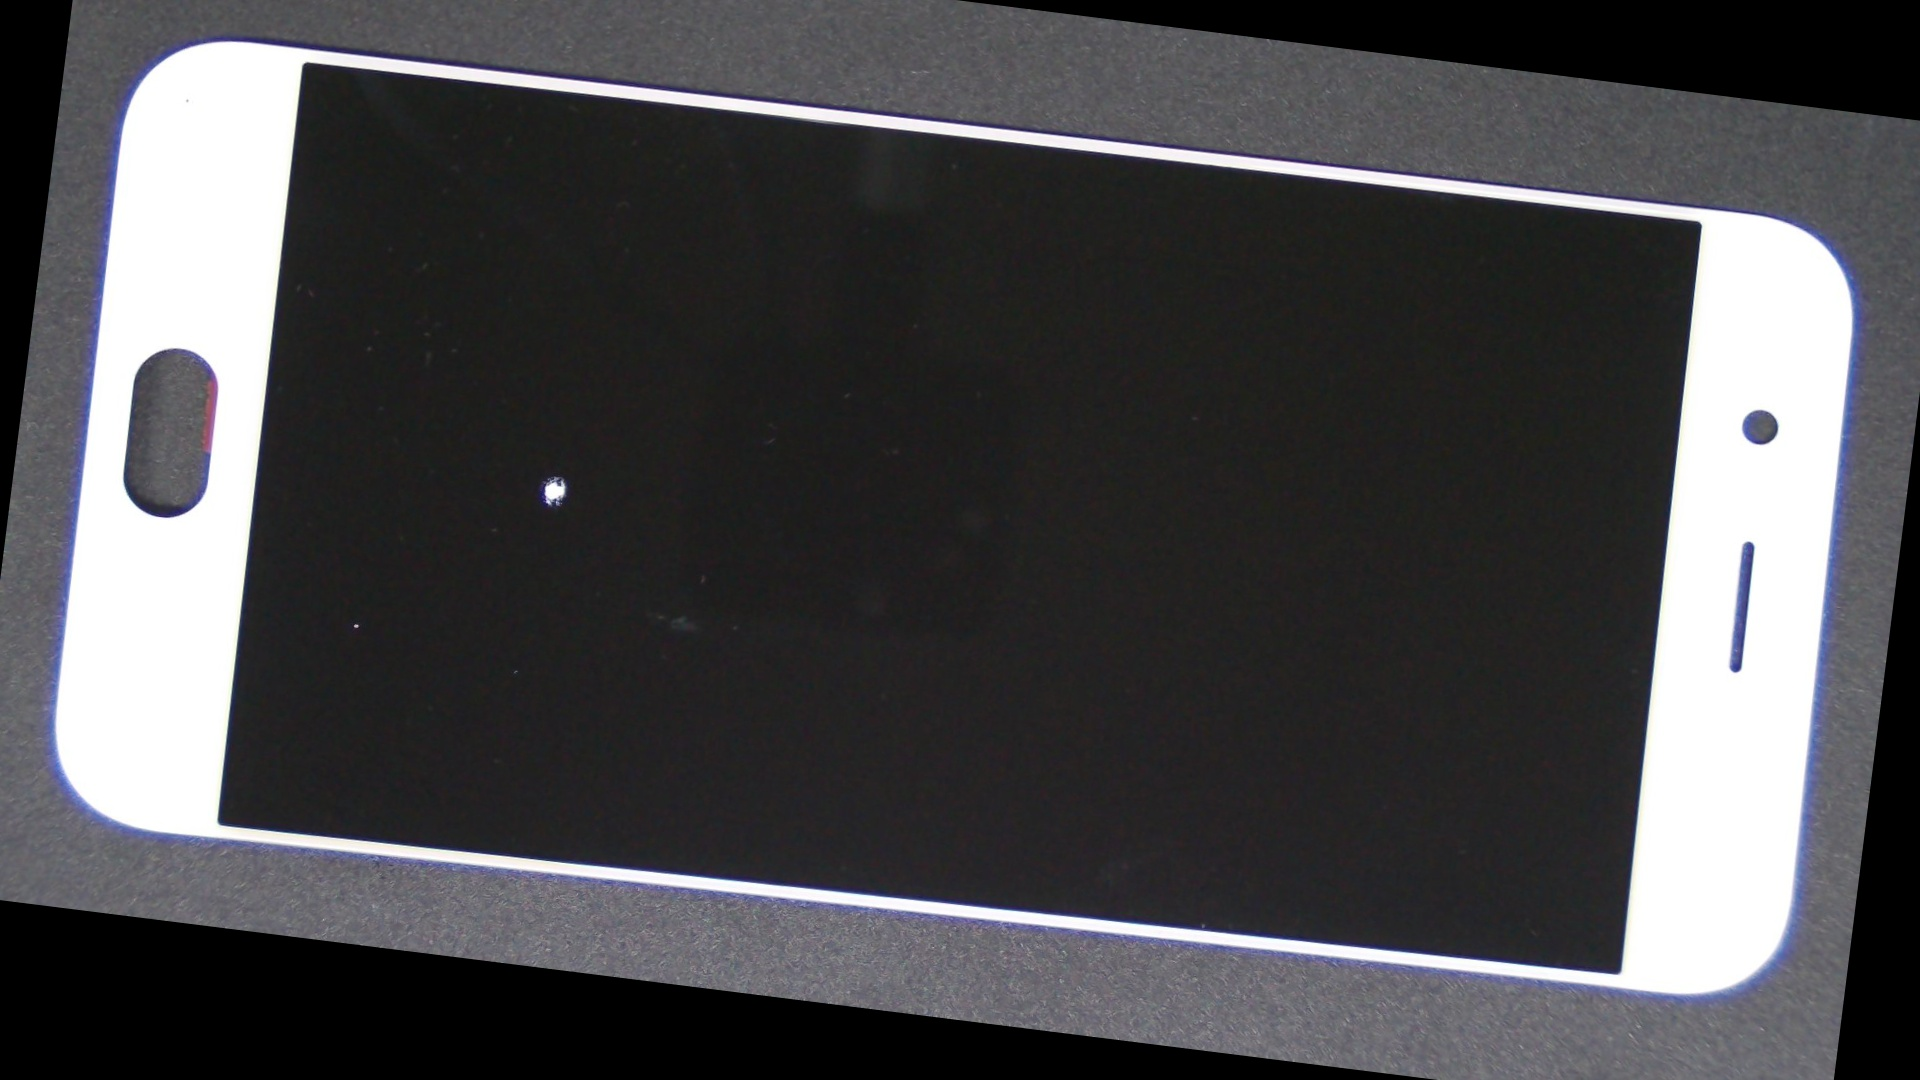oil: (256, 182, 853, 767)
